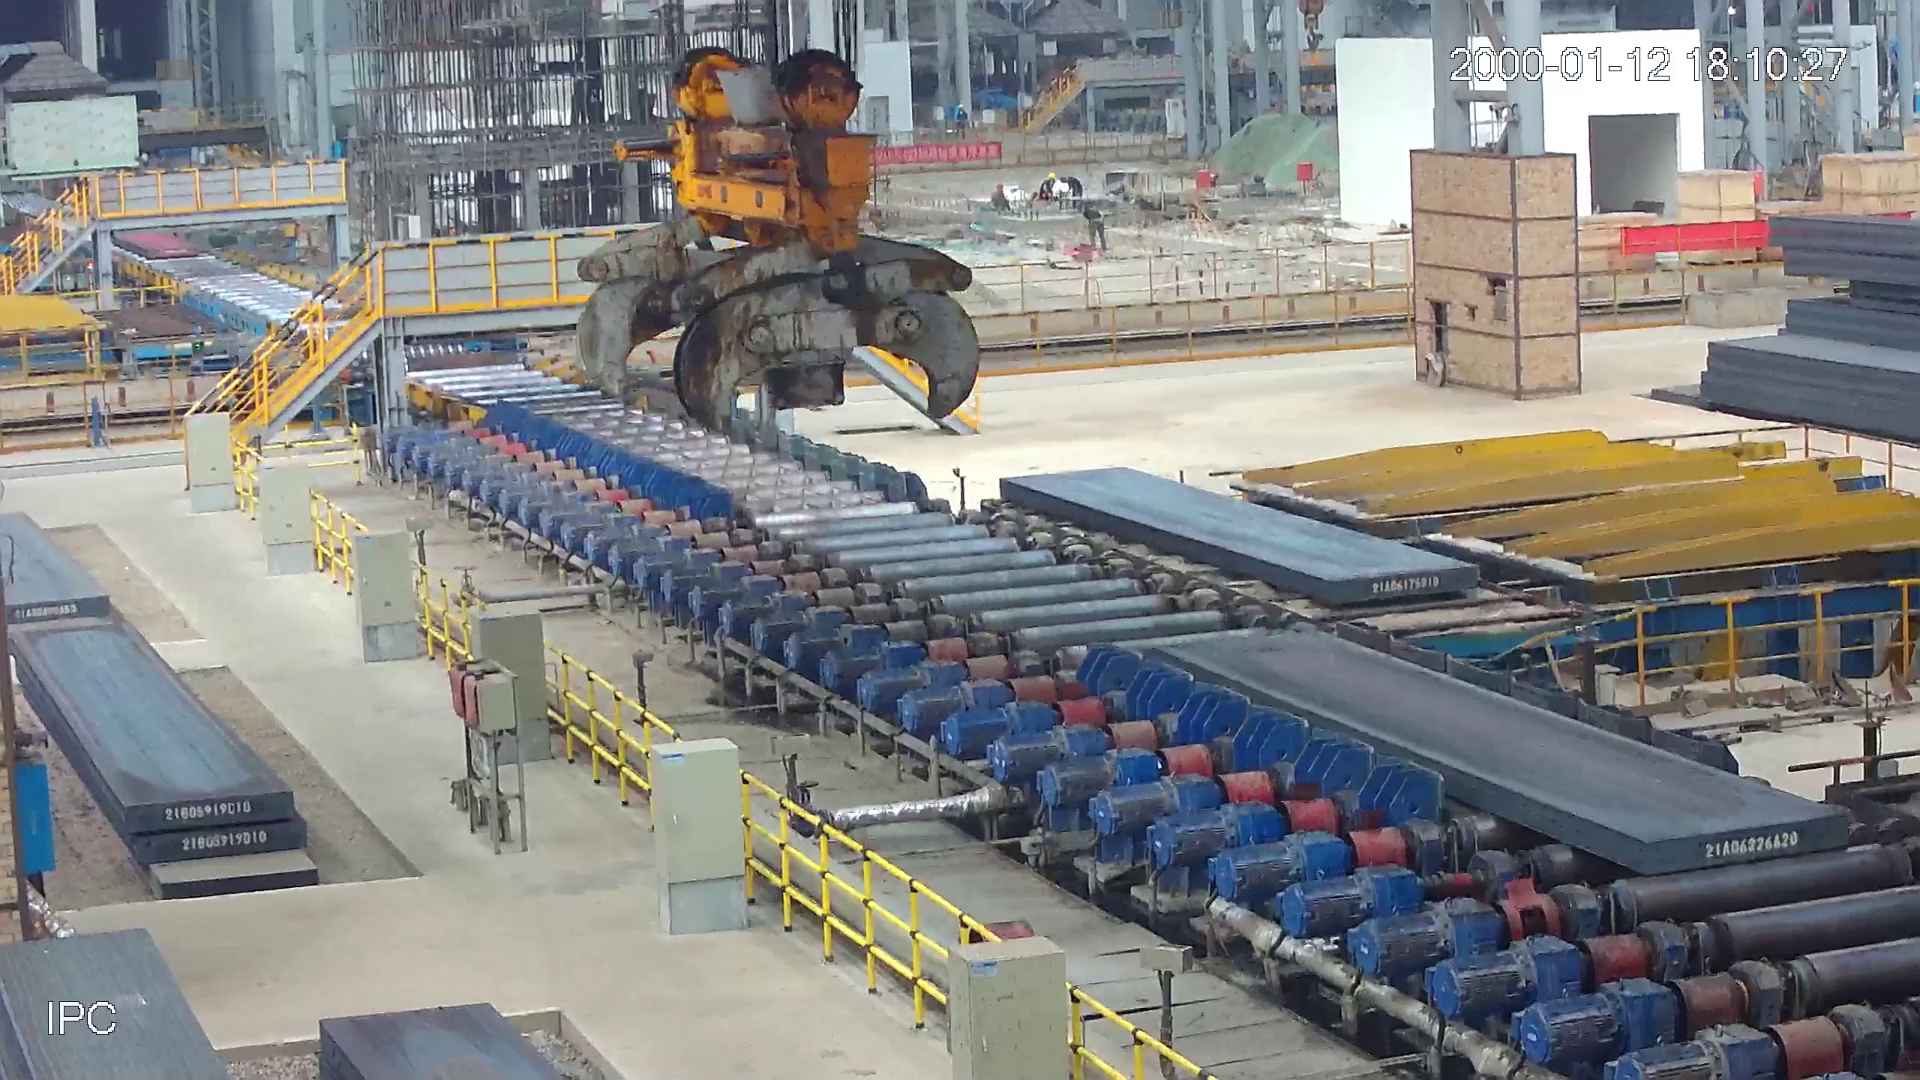crane: (560, 36, 989, 458)
slab: (1135, 625, 1858, 878), (988, 456, 1477, 608), (108, 229, 203, 262)
